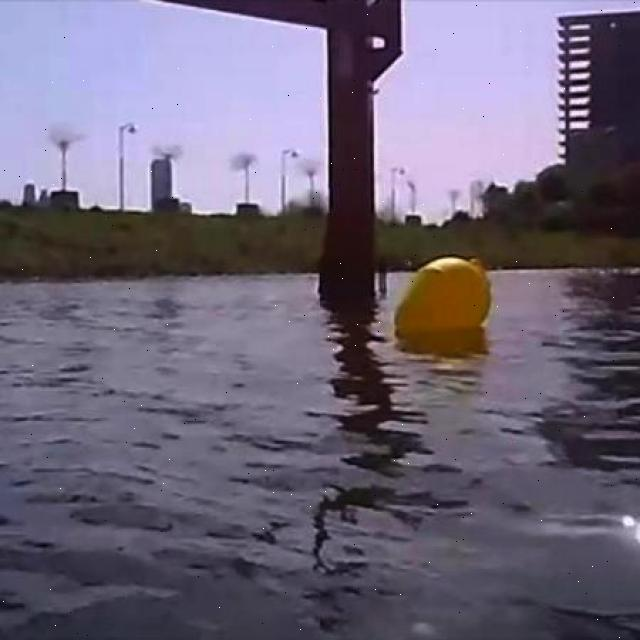buoy: (391, 253, 491, 337)
